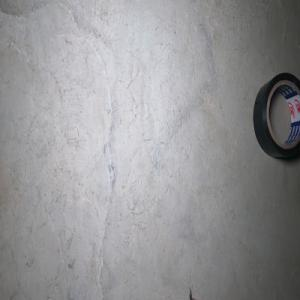Tape: (253, 72, 300, 160)
